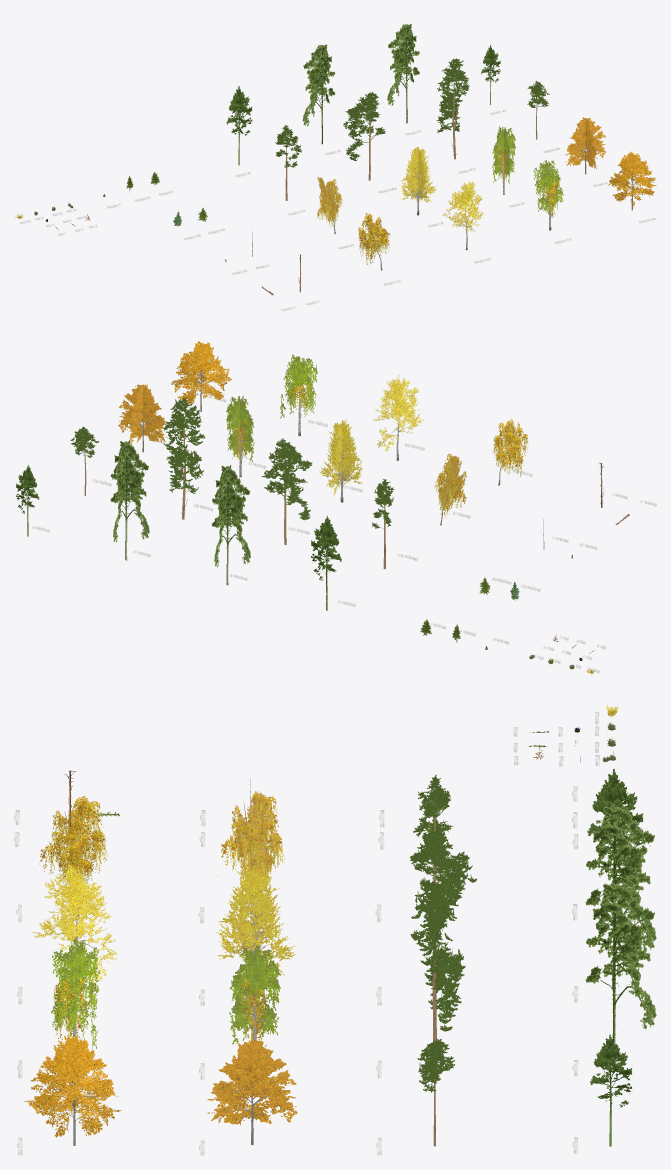
The model's file is autumn_forest_asset_extra_low_poly.glb.
3 views of the same model, one above another, from view 1: azimuth 30°, elevation 25°; view 2: azimuth 150°, elevation 25°; view 3: azimuth 270°, elevation 25° (orthographic). The views are drawn at different scales.
Visible parts, largest first — view 1: pine2_L0_6, pine1_L3_10, pine2_L3_7, mapple0_L0_14, pine1_L0_5, mapple0_L3_15, birch1_L3_17, birch2_L0_18, birch1_L0_16, birch0_L0_13, birch2_L3_19, birch0_L3_12 (+2 smaller); view 2: pine2_L0_6, mapple0_L0_14, pine2_L3_7, pine1_L3_10, pine1_L0_5, mapple0_L3_15, birch1_L3_17, birch1_L0_16, birch2_L0_18, birch2_L3_19, birch0_L0_13, birch0_L3_12 (+4 smaller); view 3: mapple0_L0_14, pine2_L3_7, mapple0_L3_15, pine2_L0_6, birch1_L3_17, pine1_L3_10, birch1_L0_16, birch2_L3_19, birch2_L0_18, birch0_L0_13, birch0_L3_12, pine1_L0_5 (+4 smaller).
Boxes of the visible parts, x1,y1,x2,y2 form: pine2_L0_6: (436,58,469,159); pine1_L3_10: (302,44,335,144); pine2_L3_7: (387,24,419,123); mapple0_L0_14: (608,151,656,210); pine1_L0_5: (343,91,385,180); mapple0_L3_15: (565,117,606,174); birch1_L3_17: (400,147,436,215); birch2_L0_18: (533,160,563,230); birch1_L0_16: (442,181,483,250); birch0_L0_13: (358,212,390,270); birch2_L3_19: (492,126,515,194); birch0_L3_12: (317,177,342,233); pine2_L0_6: (163,397,205,519); mapple0_L0_14: (171,341,231,411); pine2_L3_7: (110,440,149,560); pine1_L3_10: (211,465,250,585); pine1_L0_5: (261,438,312,544); mapple0_L3_15: (118,384,167,452); birch1_L3_17: (319,419,362,502); birch1_L0_16: (373,375,423,460); birch2_L0_18: (280,354,317,436); birch2_L3_19: (226,395,254,477); birch0_L0_13: (492,418,527,485); birch0_L3_12: (434,454,466,525); mapple0_L0_14: (24,1035,121,1145); pine2_L3_7: (585,882,656,1068); mapple0_L3_15: (207,1039,297,1145); pine2_L0_6: (410,881,465,1062); birch1_L3_17: (216,865,295,975); pine1_L3_10: (585,805,656,991); birch1_L0_16: (33,862,116,994); birch2_L3_19: (229,945,280,1044); birch2_L0_18: (51,938,99,1048); birch0_L0_13: (39,795,108,916); birch0_L3_12: (217,791,285,877); pine1_L0_5: (410,829,476,952).
Size of the model in its own units: 149 by 29.7 by 89.1.
2 materials, 1 textured.
